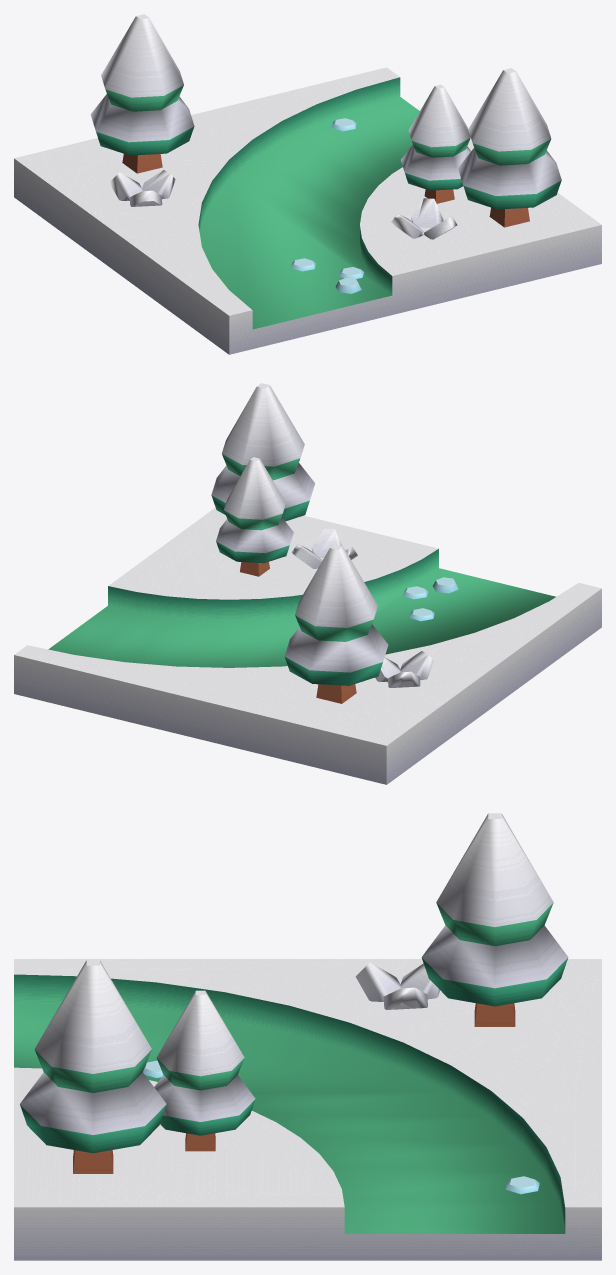
File: snow-tile-corner-large.glb
3 renders of one model, top to bottom at view 1: azimuth 30°, elevation 25°; view 2: azimuth 150°, elevation 25°; view 3: azimuth 270°, elevation 25°, orthographic. The views are drawn at different scales.
Parts seen in each view (by area): view 1: snow-tile-corner-large; view 2: snow-tile-corner-large; view 3: snow-tile-corner-large.
Part boxes in pixels (x1=…): snow-tile-corner-large: x1=14, y1=14, x2=601, y2=354; snow-tile-corner-large: x1=14, y1=383, x2=601, y2=784; snow-tile-corner-large: x1=14, y1=813, x2=601, y2=1260.
Bounding box in the file's own units: 2 × 0.96 × 2.
Materials: 1 (1 with a texture image).
